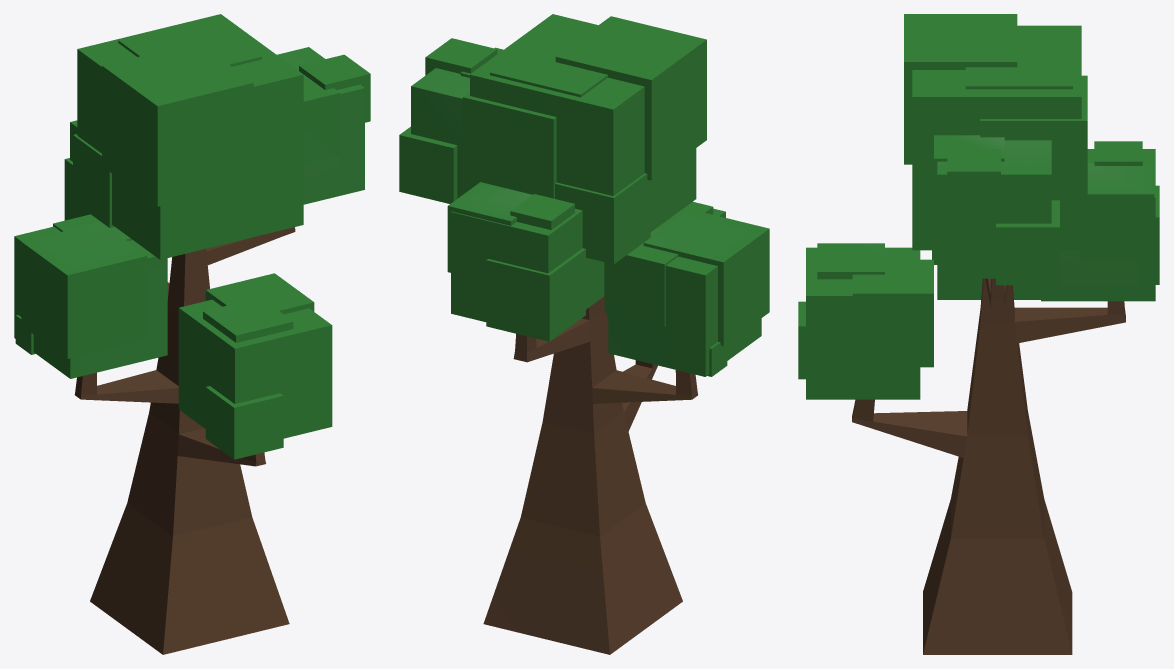
Rendered from tree_06_v1.gltf.
3 views of the same model, side by side, from view 1: azimuth 30°, elevation 25°; view 2: azimuth 150°, elevation 25°; view 3: azimuth 270°, elevation 25° (orthographic). The views are drawn at different scales.
Visible parts, largest first — view 1: Tree_06; view 2: Tree_06; view 3: Tree_06.
Boxes of the visible parts, x1,y1,x2,y2 form: Tree_06: [14, 14, 370, 654]; Tree_06: [399, 14, 769, 654]; Tree_06: [798, 14, 1159, 654].
Bounding box in the file's own units: 2.05 × 3.52 × 2.02.
